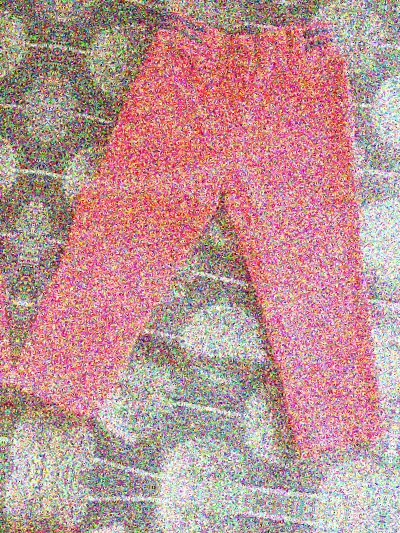Pants: (9, 0, 400, 480), (0, 0, 62, 429), (0, 505, 360, 533)
